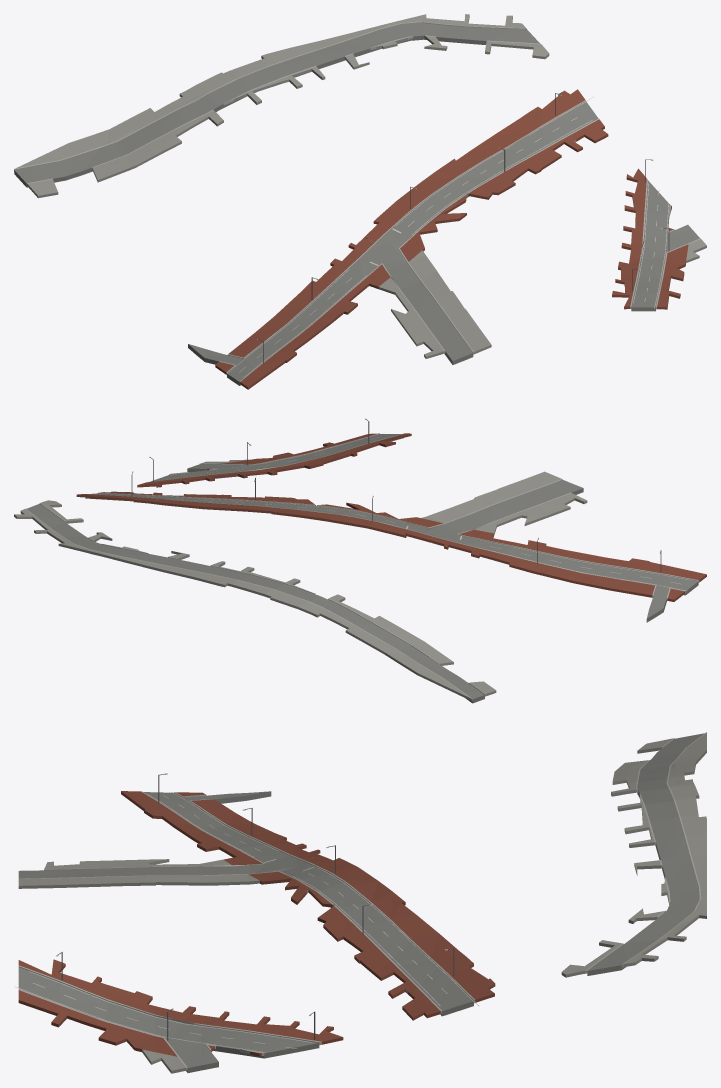
3 renders of one model, top to bottom at view 1: azimuth 30°, elevation 25°; view 2: azimuth 150°, elevation 25°; view 3: azimuth 270°, elevation 25°, orthographic. The views are drawn at different scales.
Bounding box in the file's own units: 150 × 31.51 × 147.
